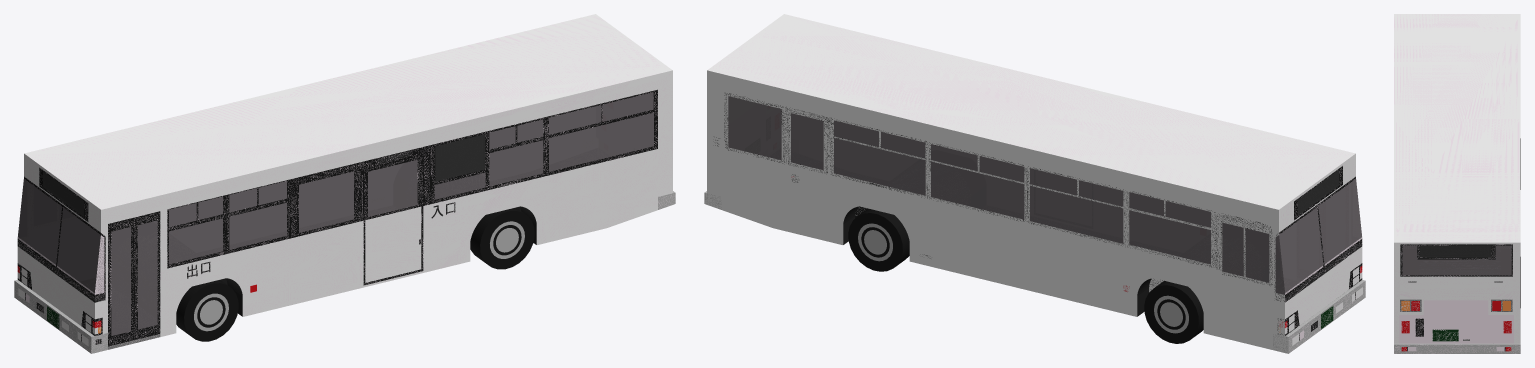
Rendered from bus.dae.
The picture shows the model from 3 angles, left to right: view 1: azimuth 30°, elevation 25°; view 2: azimuth 150°, elevation 25°; view 3: azimuth 270°, elevation 25°; orthographic projection. The views are drawn at different scales.
Parts seen in each view (by area): view 1: Bus_Body (×26), Wheel (×2); view 2: Bus_Body (×26), Wheel (×2); view 3: Bus_Body (×15).
Part boxes in pixels (<box>): Bus_Body (×26): <box>14,14,672,353</box>; Wheel (×2): <box>176,207,534,341</box>; Bus_Body (×26): <box>707,14,1365,353</box>; Wheel (×2): <box>848,208,1203,343</box>; Bus_Body (×15): <box>1394,14,1520,353</box>.
Size of the model in its own units: 431 by 98.76 by 112.
Materials: 24 (1 with a texture image).
